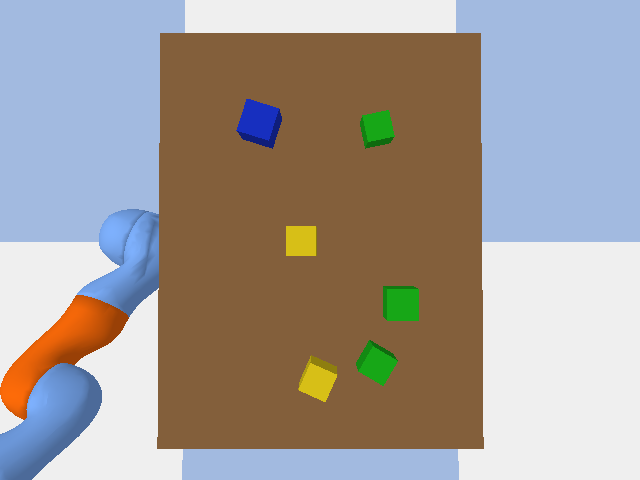blue_obj: (236, 99, 281, 148)
green_obj: (356, 340, 397, 385), (360, 110, 394, 148), (383, 286, 418, 320)
yellow_obj: (298, 355, 337, 401), (286, 226, 316, 255)
